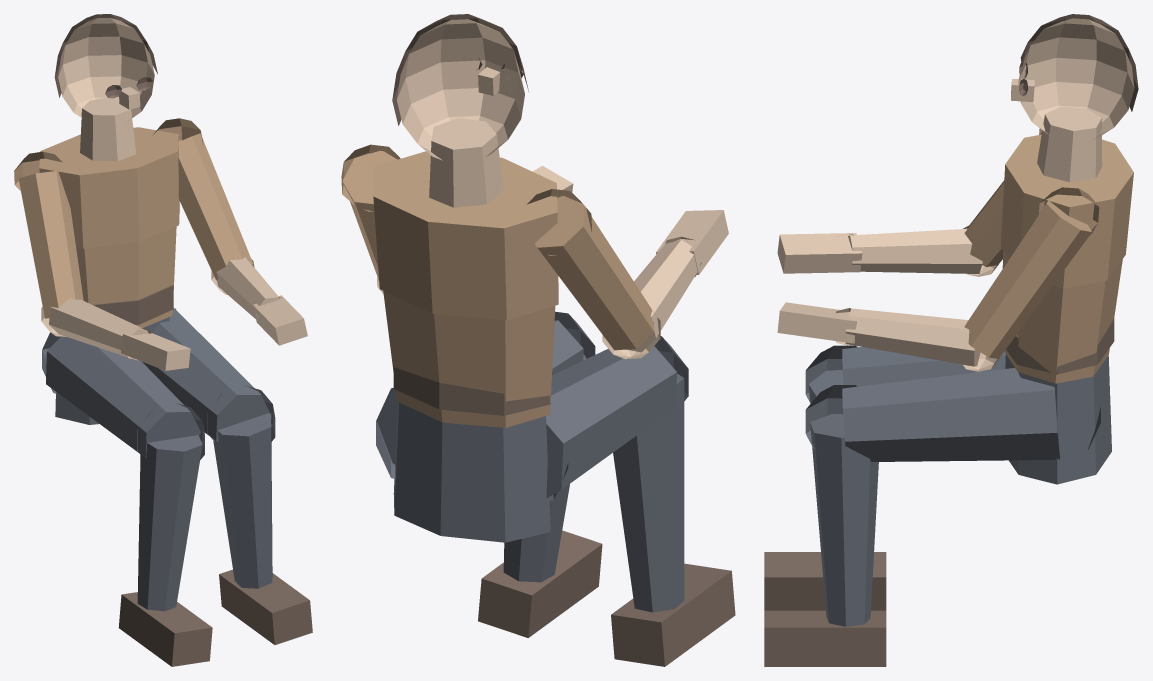
File: low-poly-character-figures-civilian-sitting-f51129df.glb
3 views of the same model, side by side, from view 1: azimuth 30°, elevation 25°; view 2: azimuth 150°, elevation 25°; view 3: azimuth 270°, elevation 25° (orthographic). The views are drawn at different scales.
Visible parts, largest first — view 1: civilian-sitting; view 2: civilian-sitting; view 3: civilian-sitting.
Part boxes in pixels (x1,y1,x2,y2): civilian-sitting: (14, 14, 312, 666); civilian-sitting: (341, 14, 735, 666); civilian-sitting: (764, 14, 1138, 666).
Bounding box in the file's own units: 0.5532 × 1.36 × 0.7532.
